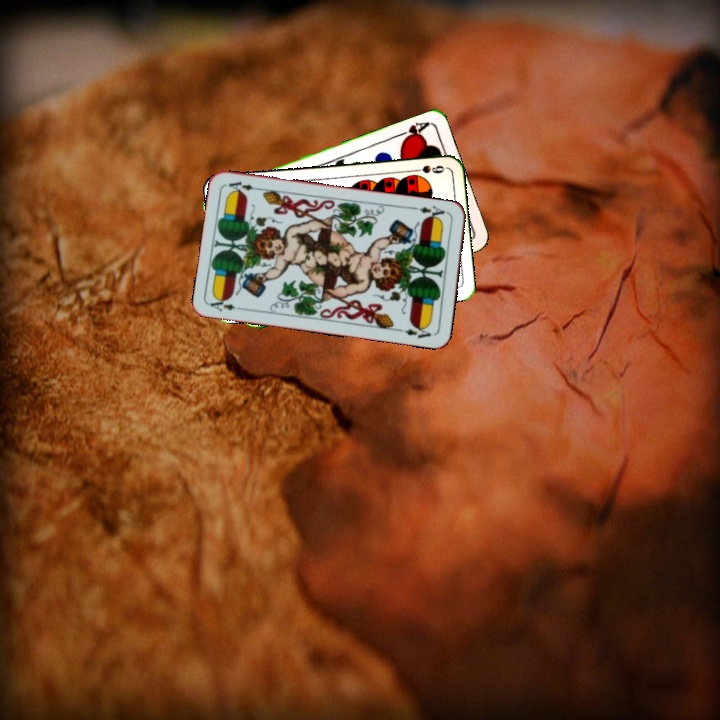EA: (207, 294, 247, 314), (410, 202, 447, 223)
HA: (392, 118, 432, 145)
S9: (406, 161, 447, 176)
